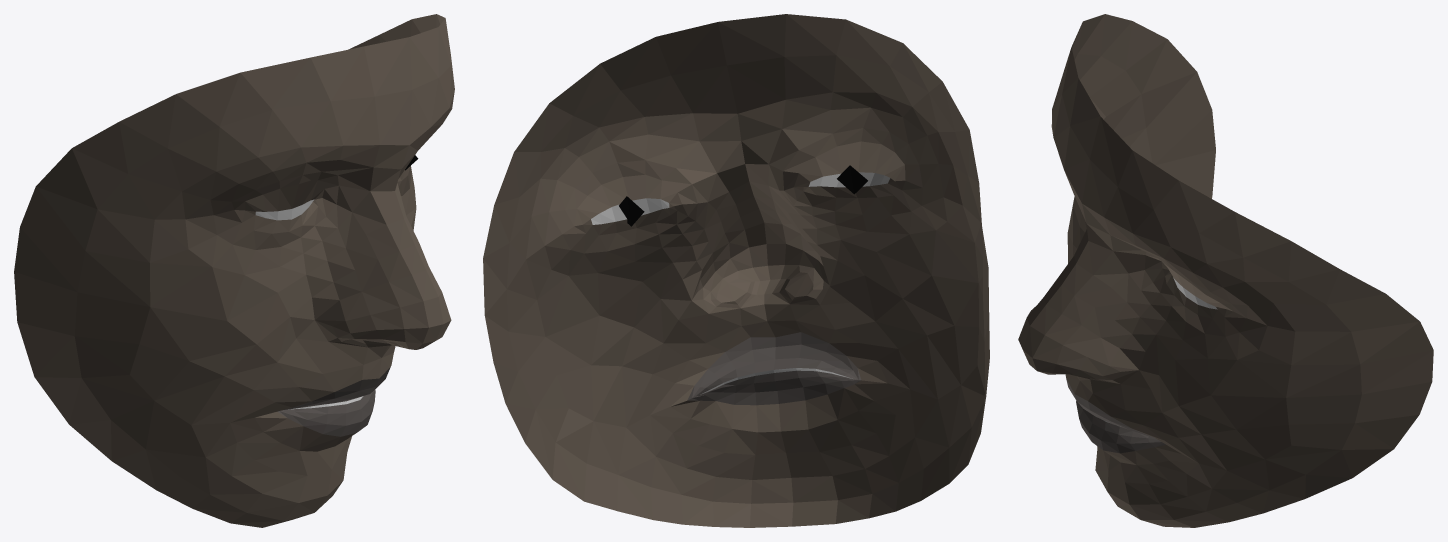
The model's file is frame_00148.obj.
3 renders of one model, left to right at view 1: azimuth 30°, elevation 25°; view 2: azimuth 150°, elevation 25°; view 3: azimuth 270°, elevation 25°, orthographic. The views are drawn at different scales.
Visible parts, largest first — view 1: face_model_with_iris; view 2: face_model_with_iris; view 3: face_model_with_iris.
Boxes of the visible parts, left/top/right/bottom form: face_model_with_iris: left=14, top=14, right=454, bottom=527; face_model_with_iris: left=483, top=14, right=989, bottom=527; face_model_with_iris: left=1018, top=14, right=1433, bottom=527.
Bounding box in the file's own units: 0.5018 × 0.5401 × 0.4434.
